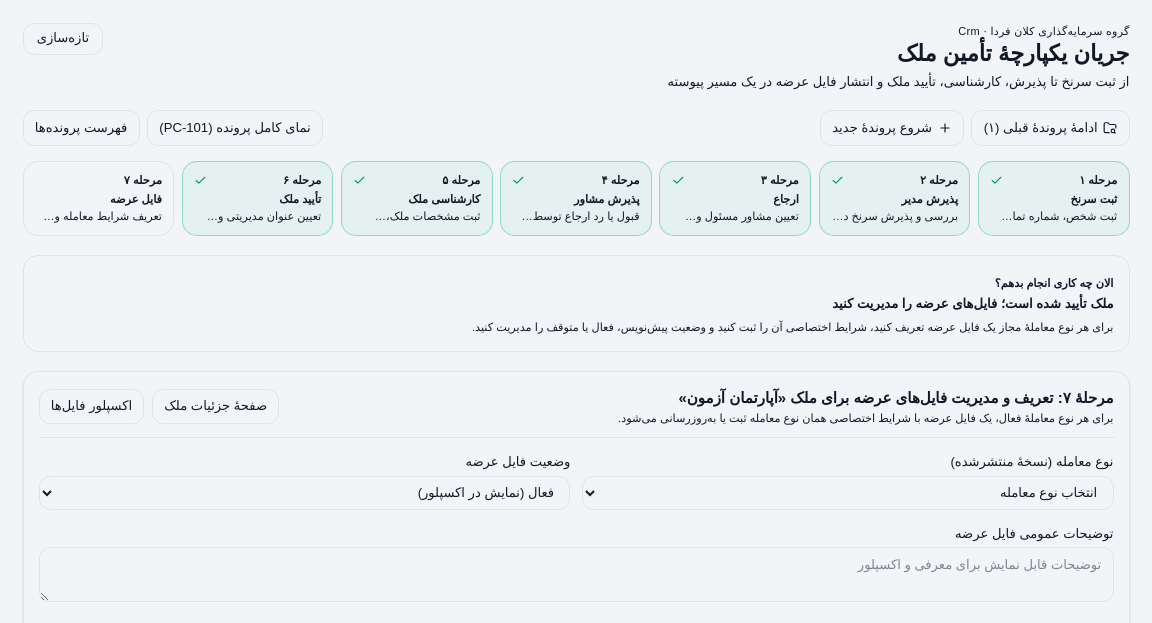
Test case: property registration listing step price fields › groups the amount in threes while typing and writes it in Persian words under the field
expect the heading "مرحلهٔ ۷: تعریف و مدیریت فایل" is shown: met, box [778,389,1114,406]
Select "فروش" in the dropdown labelled "نوع معامله (نسخهٔ منتشرشده)": (848, 493) [582,476,1114,510]
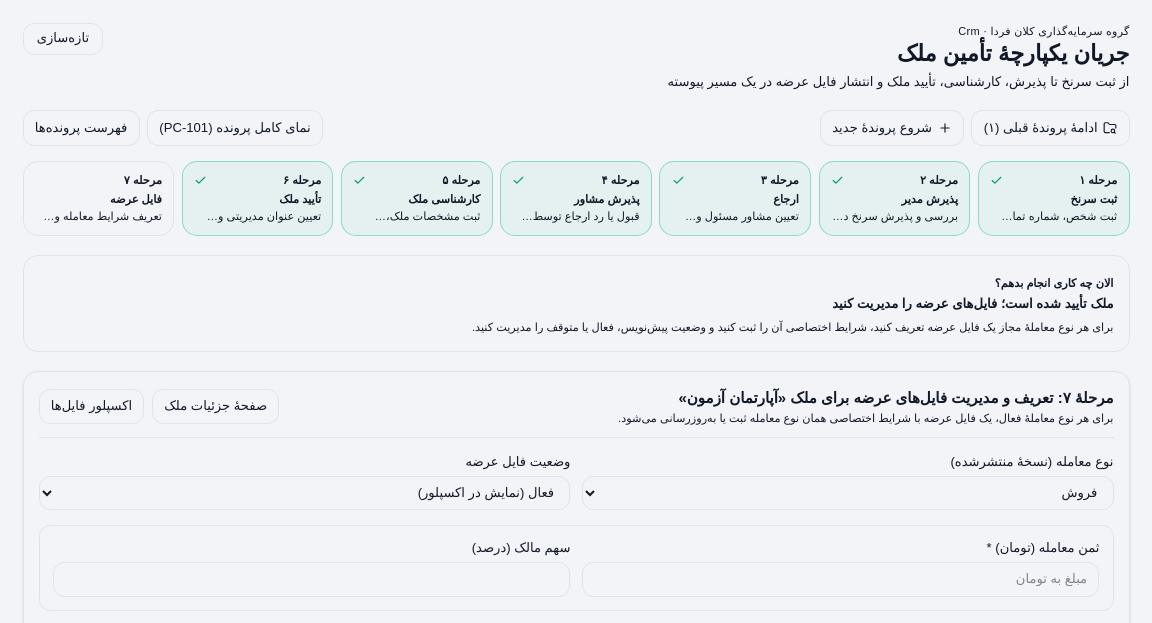
expect the field with placeholder "مبلغ به تومان" is shown: met
In the field named "ثمن معامله (تومان)": (840, 579) [582,562,1099,597], type "1500000000"
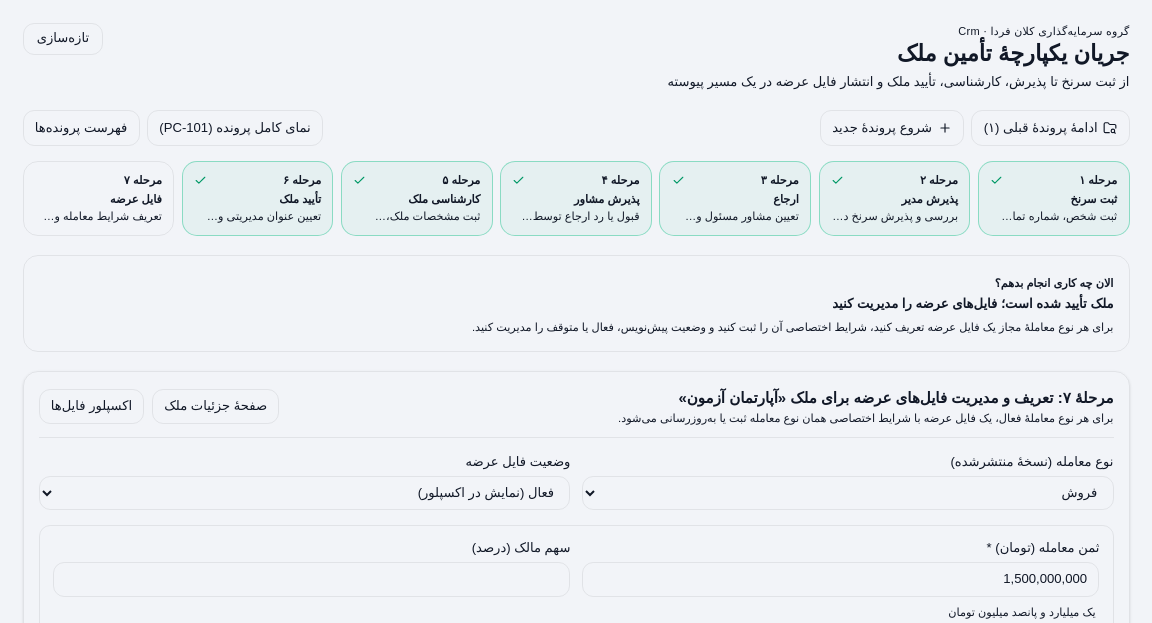
expect the field named "ثمن معامله (تومان)" holds "1,500,000,000": met
expect the text "یک میلیارد و پانصد میلیون تومان" is shown: met, box [948,606,1096,618]
Replace the text in the field named "ثمن معامله (تومان)" with "۲۵۰۰۰۰۰": (840, 579) [582,562,1099,597]
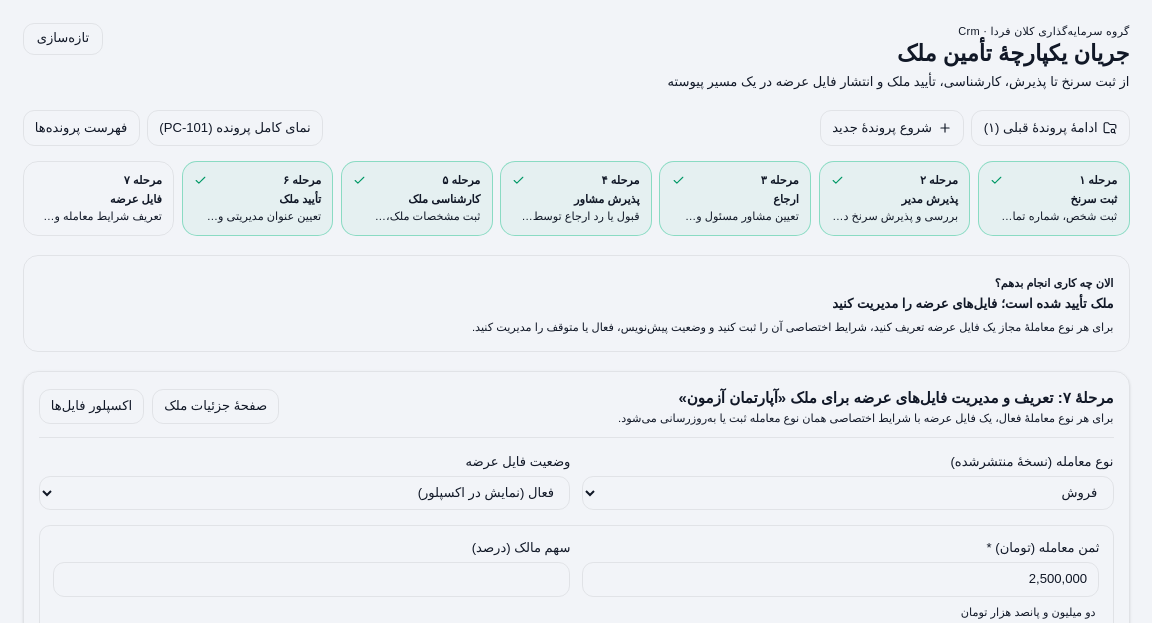
expect the field named "ثمن معامله (تومان)" holds "2,500,000": met, box [582,562,1099,597]
expect the text "دو میلیون و پانصد هزار تومان" is shown: met, box [961,606,1096,618]
